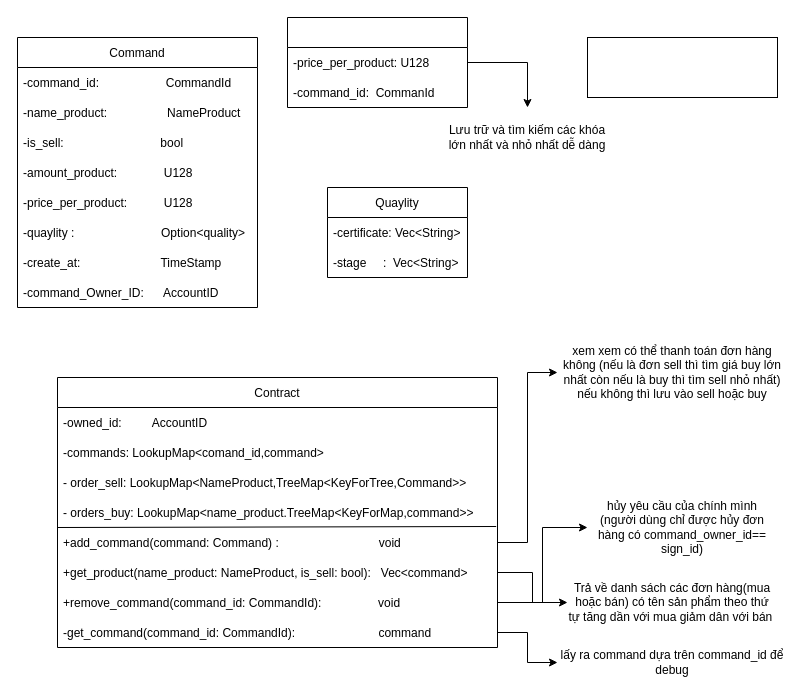
Image size: 805x695. Some labels were removed from this diagram. Here are the shapes that lost their labels. From the top down, the box of each, then its label:
(286, 16, 468, 108): KeyForTree
(586, 36, 778, 98): pub type CommandId = String pub type NameProduct = String
